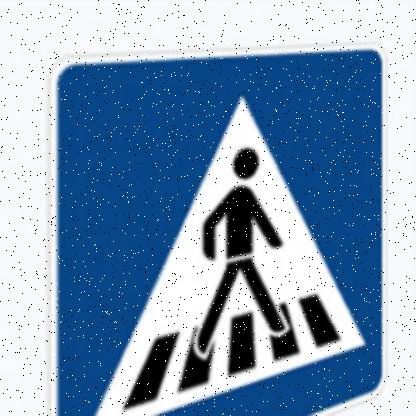Pedestrian Crossing: (42, 44, 400, 416)
